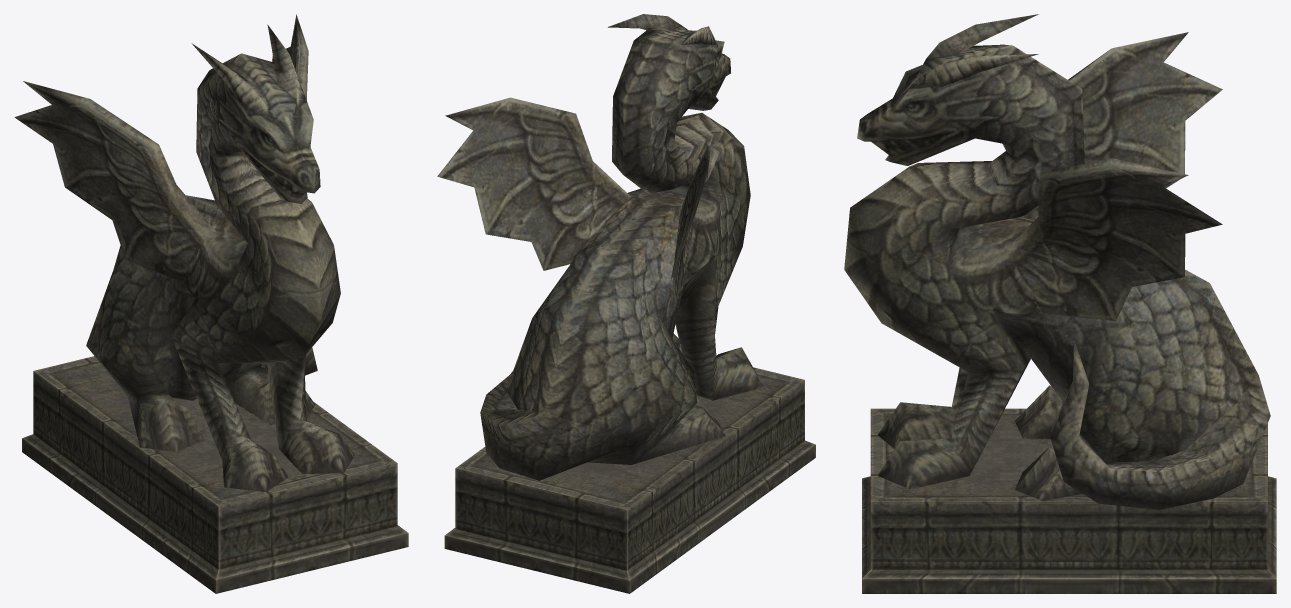
The model's file is Statue07_a.FBX.
The picture shows the model from 3 angles, left to right: view 1: azimuth 30°, elevation 25°; view 2: azimuth 150°, elevation 25°; view 3: azimuth 270°, elevation 25°; orthographic projection. The views are drawn at different scales.
Visible parts, largest first — view 1: Statue07_a; view 2: Statue07_a; view 3: Statue07_a.
Part boxes in pixels (box(x1,y1,x2,y2)): Statue07_a: box(14, 14, 408, 593); Statue07_a: box(437, 14, 815, 593); Statue07_a: box(844, 14, 1276, 593).
Bounding box in the file's own units: 122 × 202 × 156.
